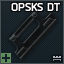OP-SKS dovetail mount: (0, 0, 64, 64)
